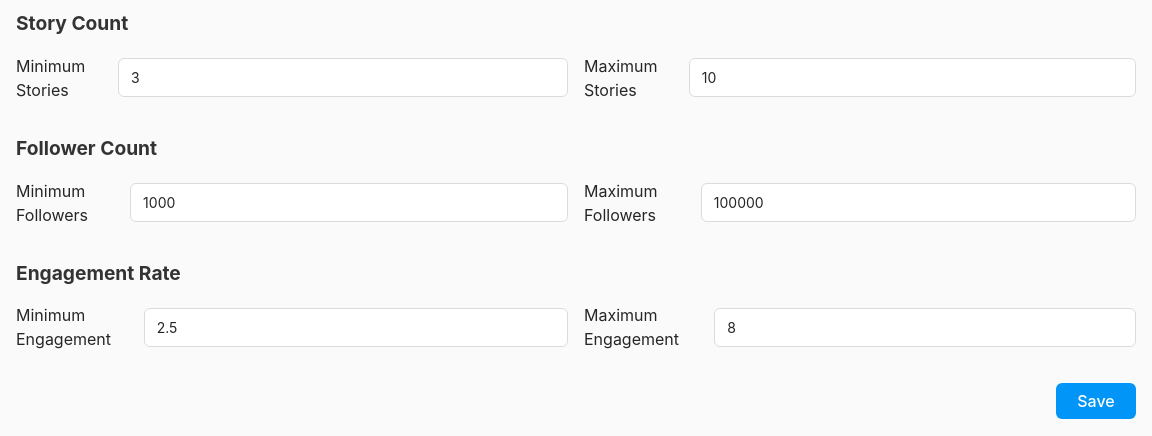
Test: StoryTargets Component › Target Display › shows validation errors for invalid inputs
Replace the text in the number field labelled "Minimum Stories" with "-1": coordinates (343, 78) [118,58,568,97]
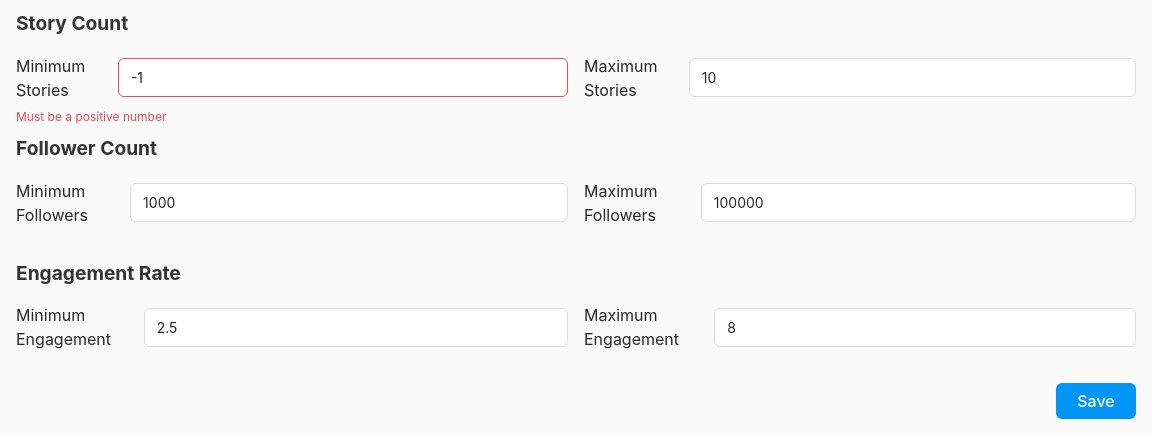
Result: the text "Must be a positive number" is shown at [16,109,166,124]
Replace the text in the number field labelled "Maximum Followers" with "999": coordinates (918, 203) [701,183,1136,222]
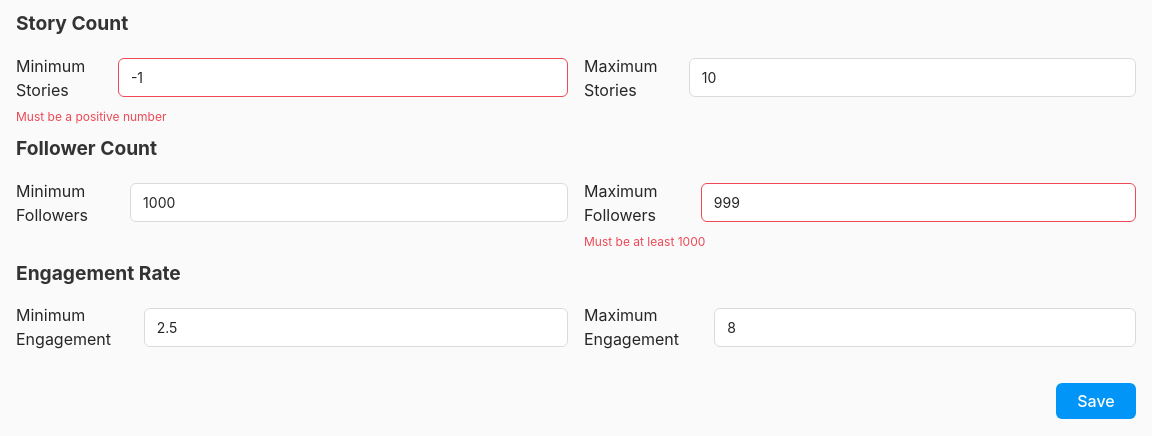
Result: the text "Must be at least 1000" is shown at [584,234,705,249]
